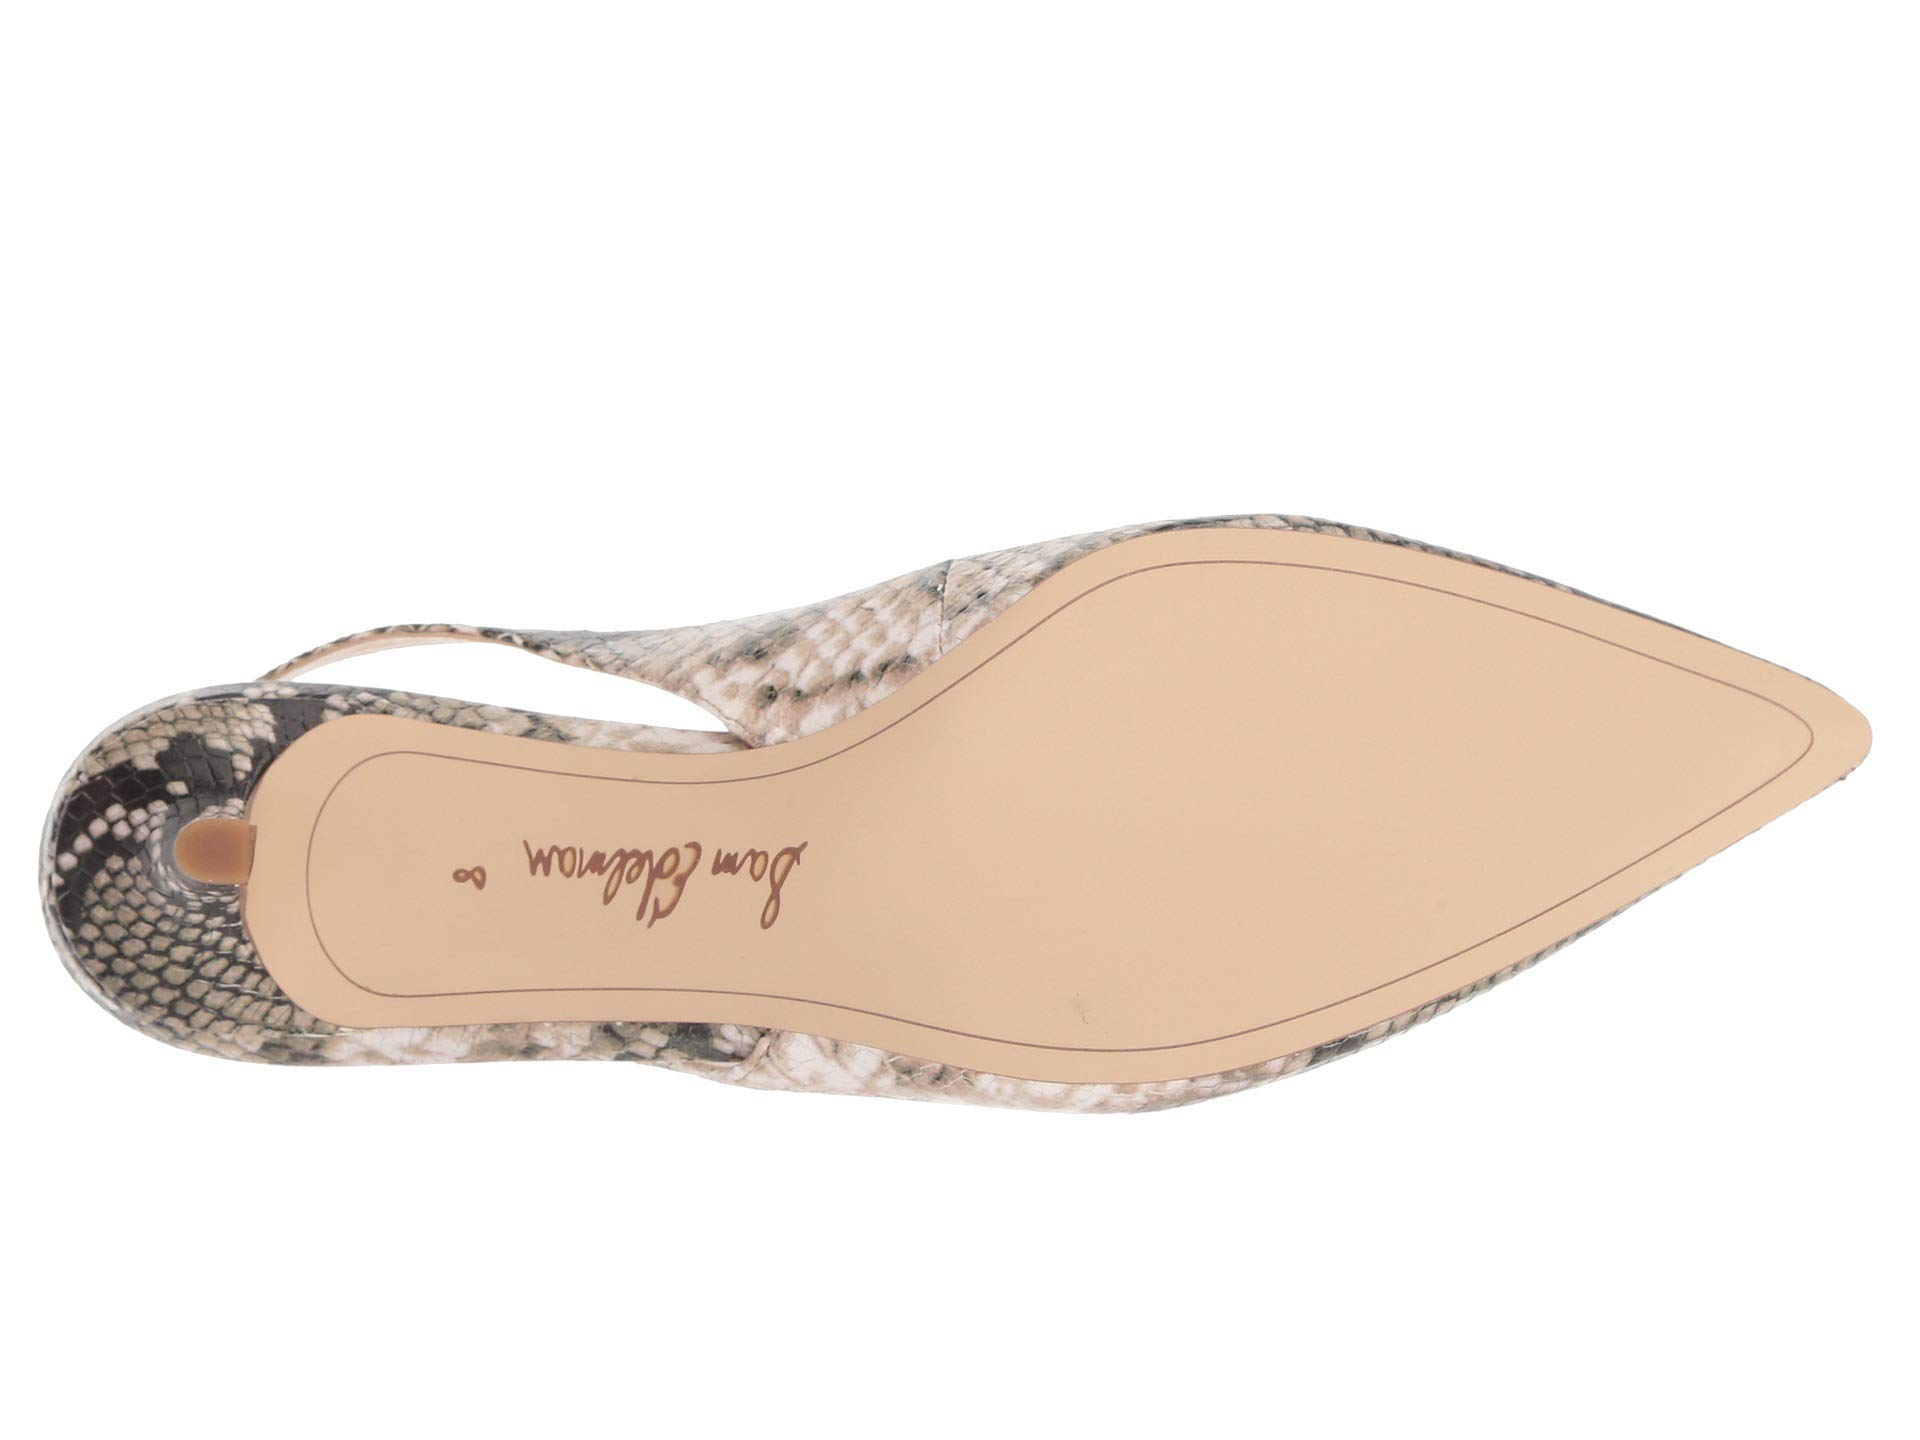exclude: (296, 548, 983, 1159)
line: (1185, 546, 1665, 659)
